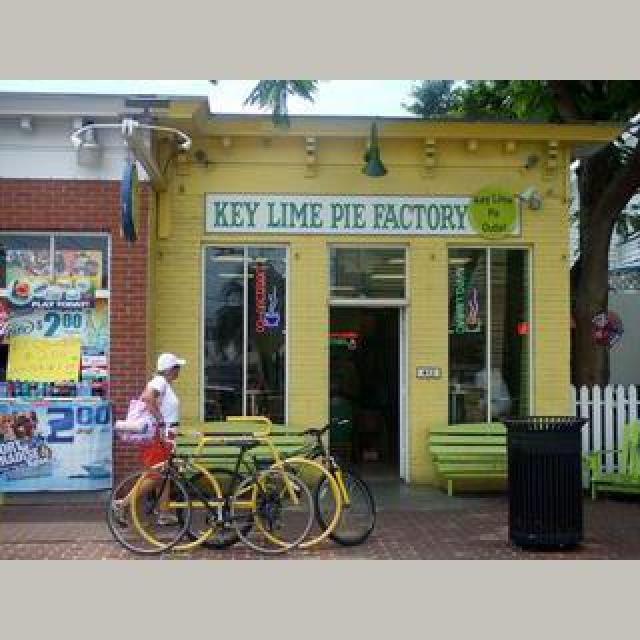Bus-Bike: (42, 402, 102, 442)
MC-Bike: (112, 354, 184, 526)
Person: (102, 414, 318, 554), (132, 414, 346, 550), (176, 414, 376, 550)
